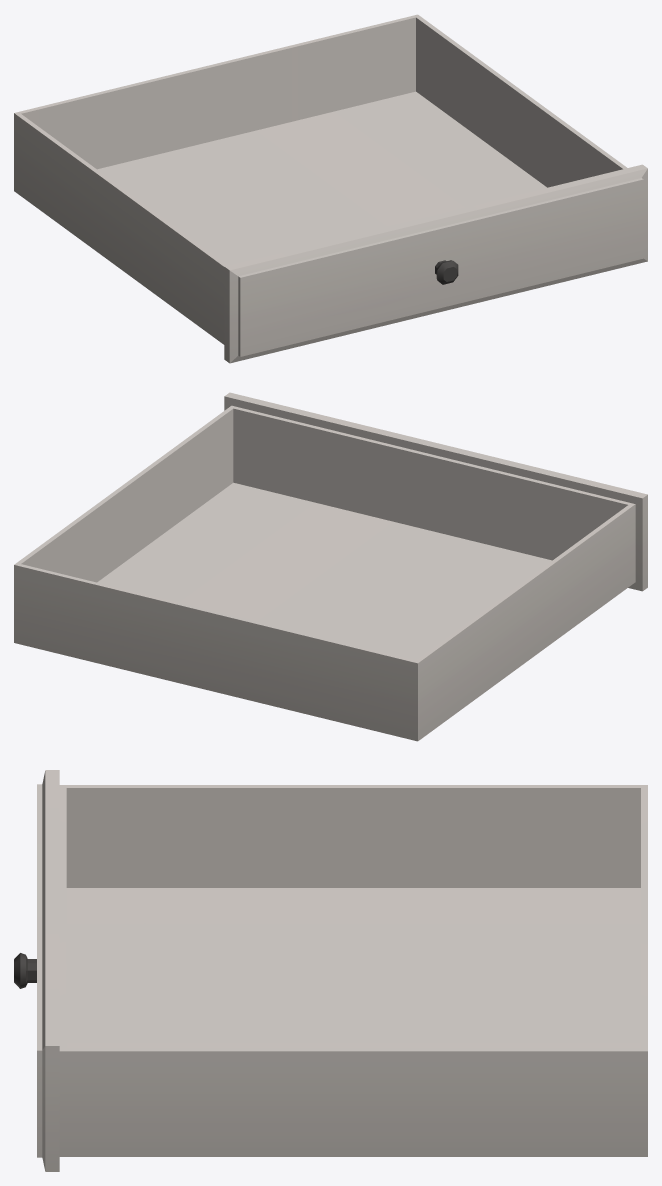
File: Drawer_Unit_80cm_Small.fbx
3 views of the same model, one above another, from view 1: azimuth 30°, elevation 25°; view 2: azimuth 150°, elevation 25°; view 3: azimuth 270°, elevation 25° (orthographic). The views are drawn at different scales.
Visible parts, largest first — view 1: Drawer_Unit_80cm_Small; view 2: Drawer_Unit_80cm_Small; view 3: Drawer_Unit_80cm_Small.
Part boxes in pixels (x1,y1,x2,y2): Drawer_Unit_80cm_Small: (14, 14, 647, 363); Drawer_Unit_80cm_Small: (14, 392, 647, 741); Drawer_Unit_80cm_Small: (14, 770, 647, 1171).
Size of the model in its own units: 78.38 by 16.66 by 76.11.
